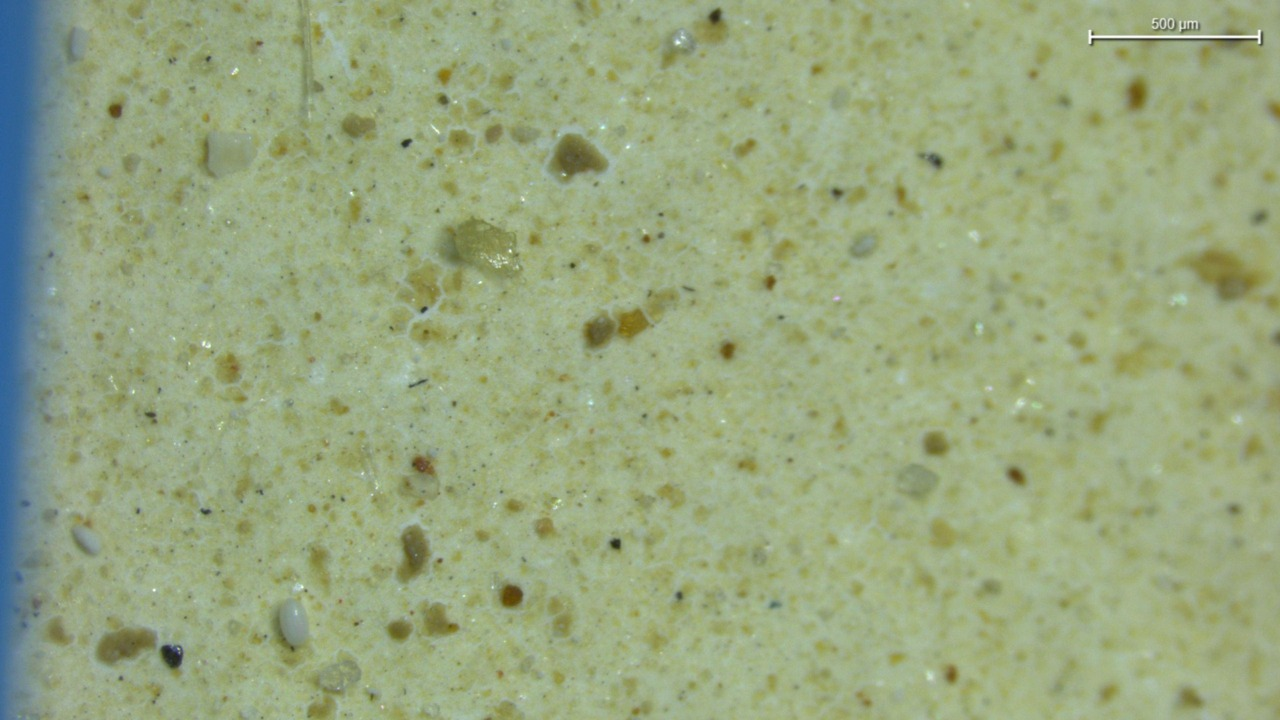microplastic_fragment: (453, 218, 521, 279), (207, 131, 256, 178), (277, 599, 308, 648), (72, 525, 101, 555)
